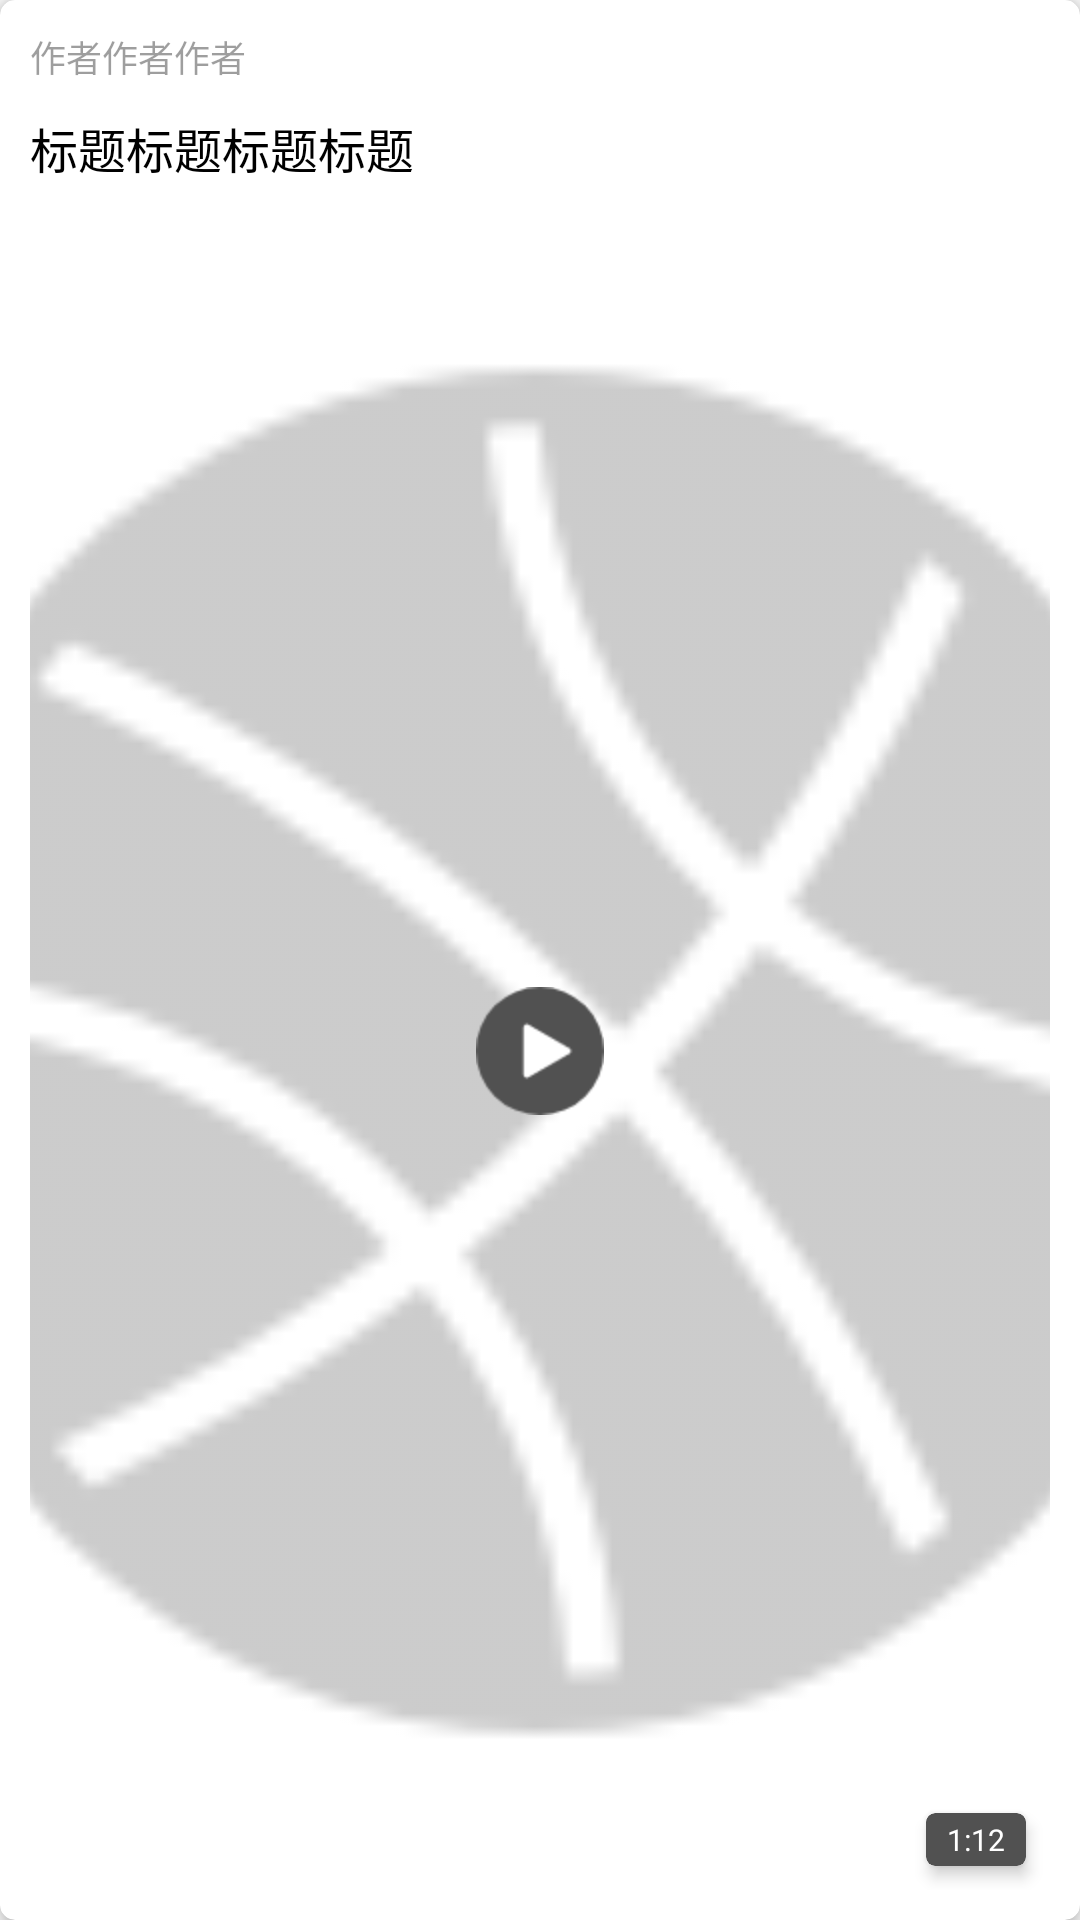

Icon click points for this 1080×1920 phone screenshot, format point (x, y):
play: point (540, 1051)
